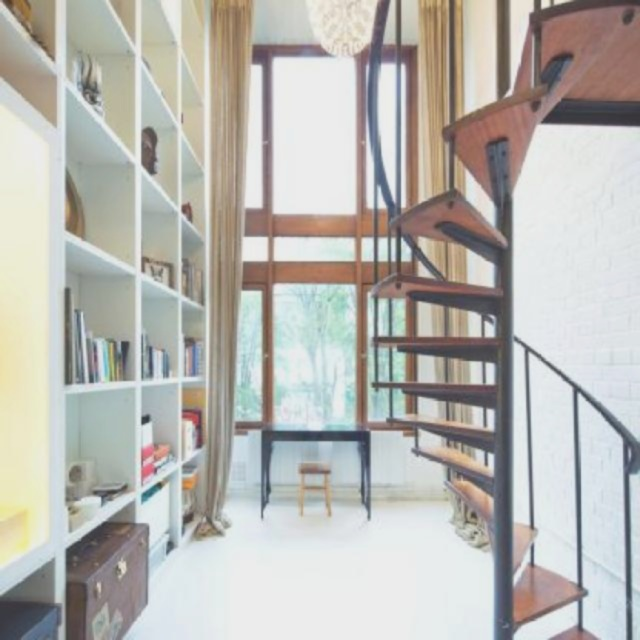stair: (369, 0, 640, 640)
